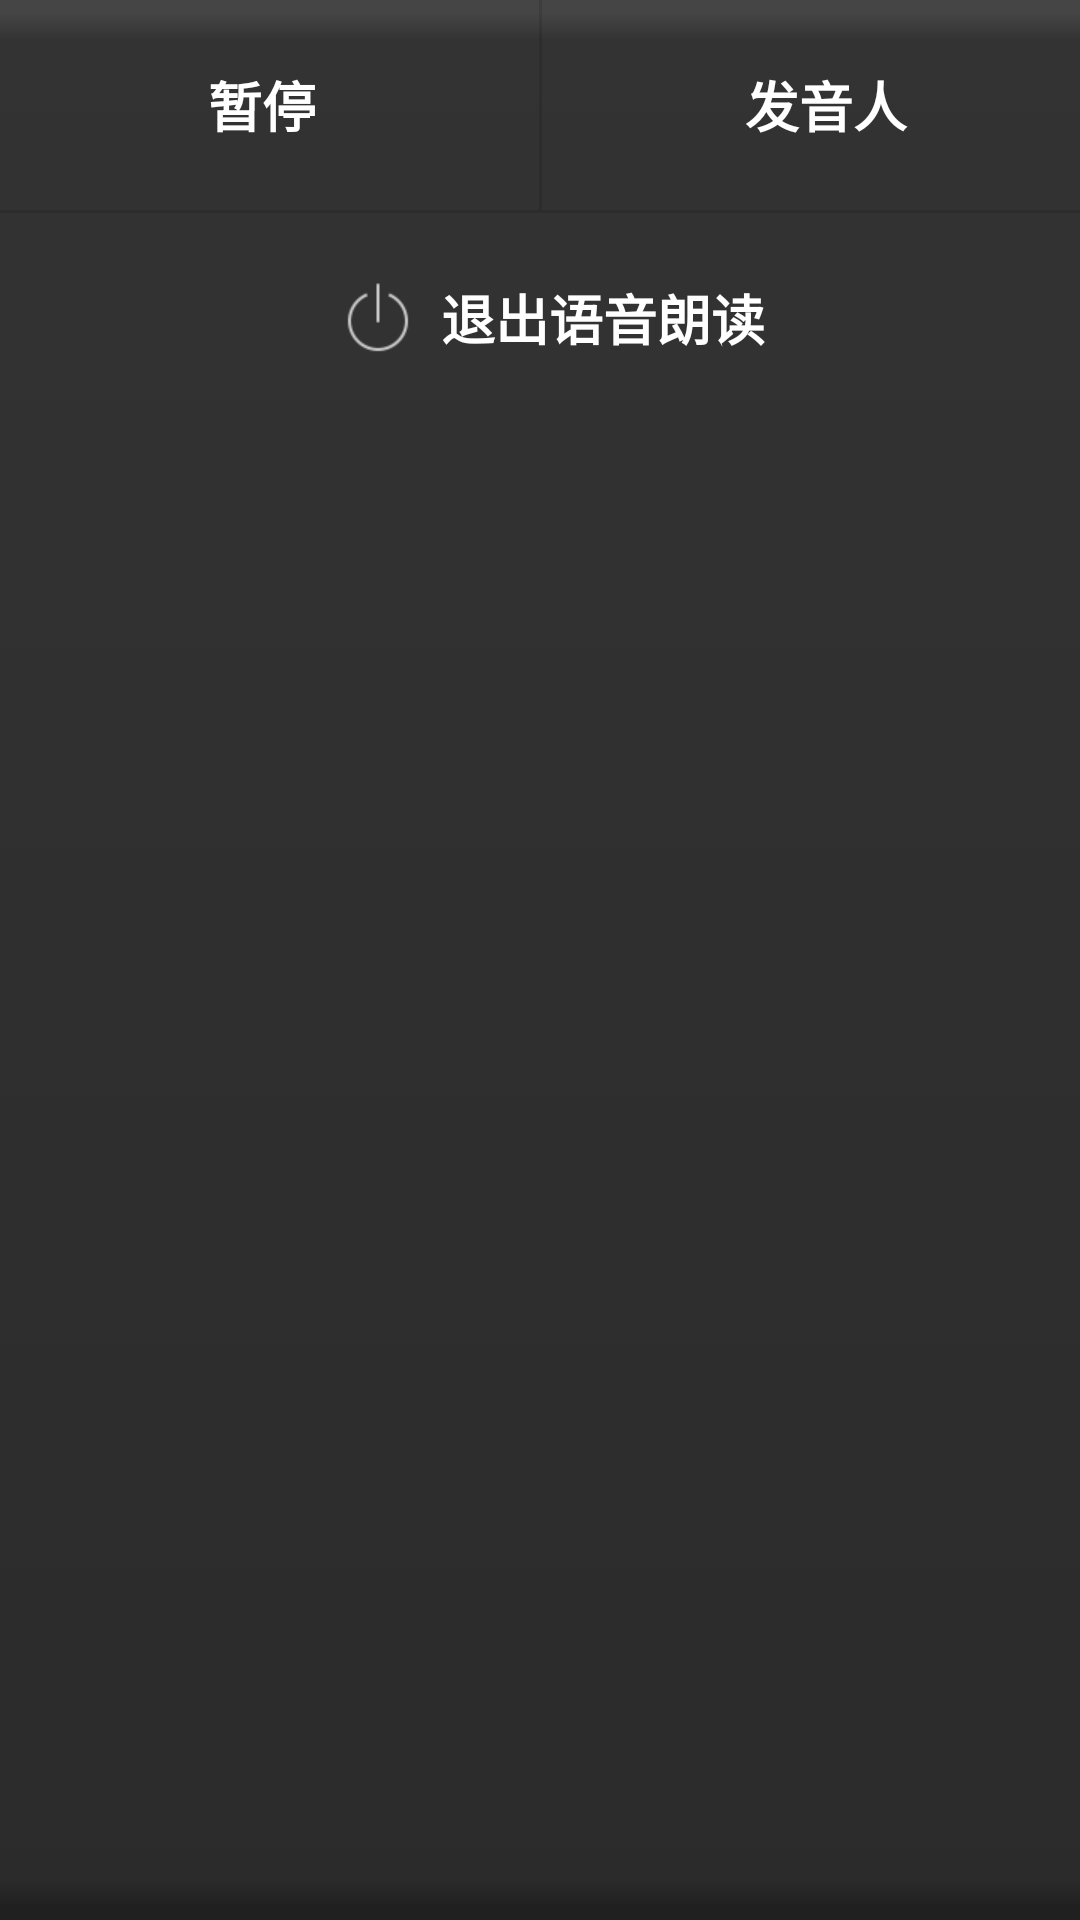

Screen size 1080px×1920px. Icon name, then its box in pixels as {"x1": x1, "y1": y1, "x2": x2, "y2": y2}:
quit: {"x1": 347, "y1": 283, "x2": 408, "y2": 352}
